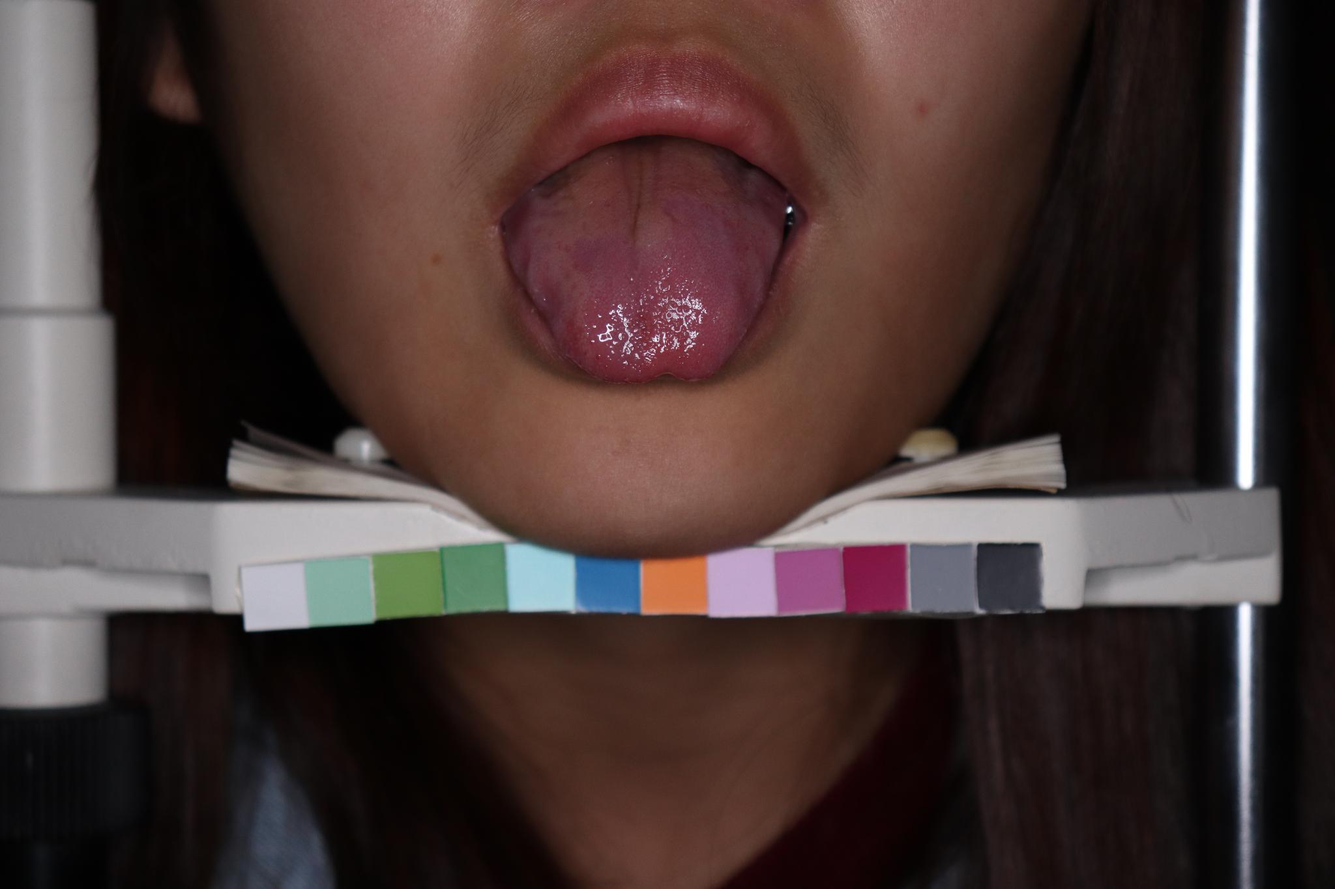hongshe: (493, 137, 802, 391)
huataishe: (583, 287, 722, 369)
